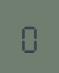zero: (19, 20, 38, 53)
